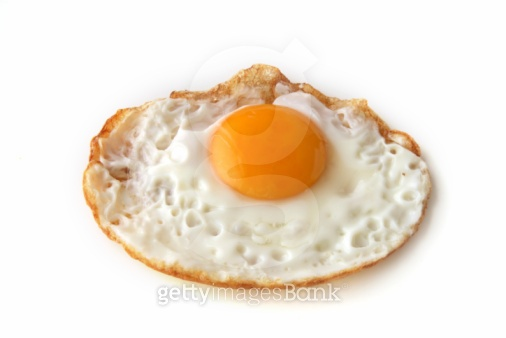fried egg: (83, 62, 433, 289)
